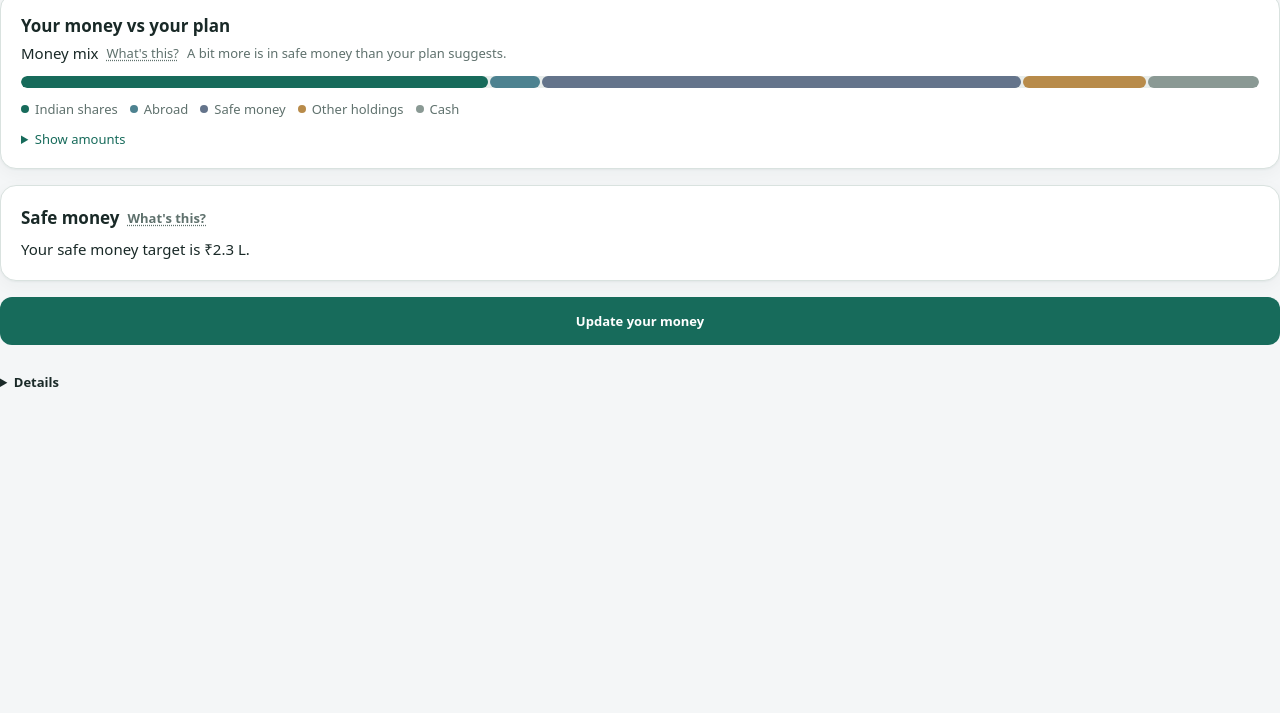
Plan page › shows the money mix first and keeps supporting detail closed
Expected: the heading "Your money vs your plan" is shown, [21,14,230,37]
Expected: the text "A bit more is in safe money than your plan suggests." is shown, [187,44,506,62]
Click the heading "Show amounts": (80, 139) [35,130,126,148]
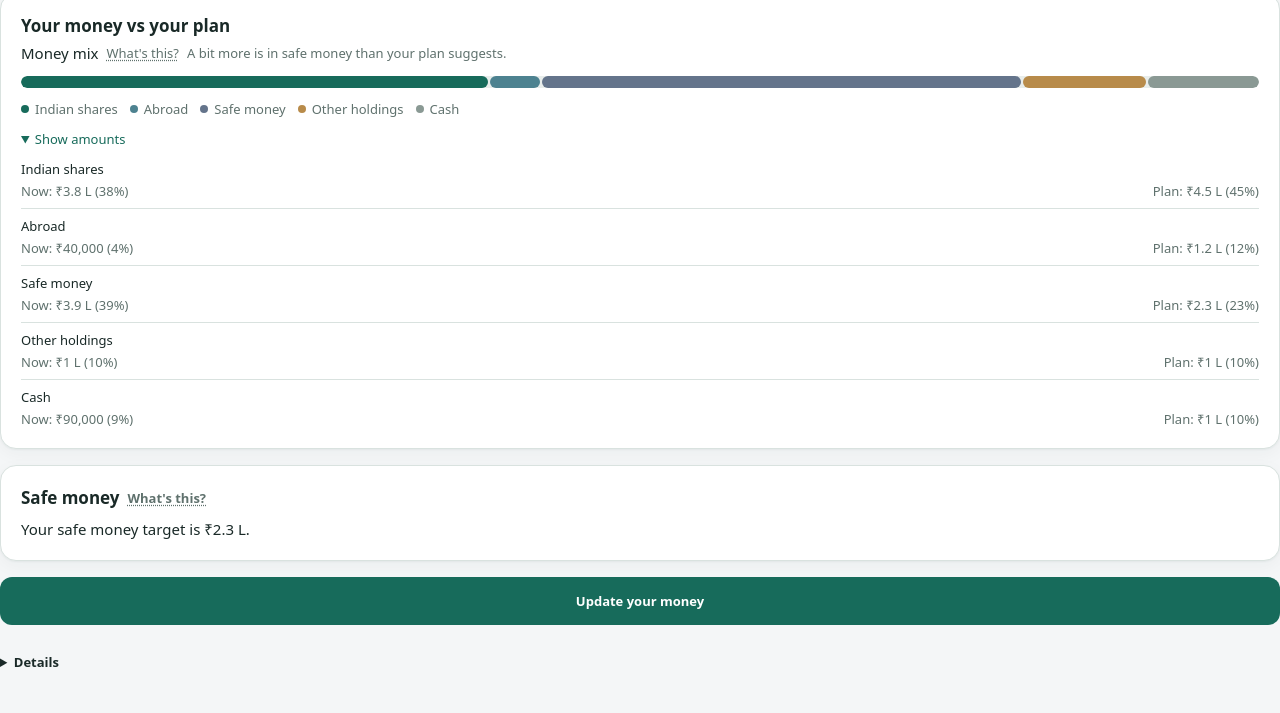
Result: the text "Now: ₹3.8 L (38%)" is shown at [21,182,128,200]
Result: the text "Plan: ₹4.5 L (45%)" is shown at [1153,182,1259,200]
Click the heading "Details": (36, 662) [14,653,59,671]
(page scrolled)
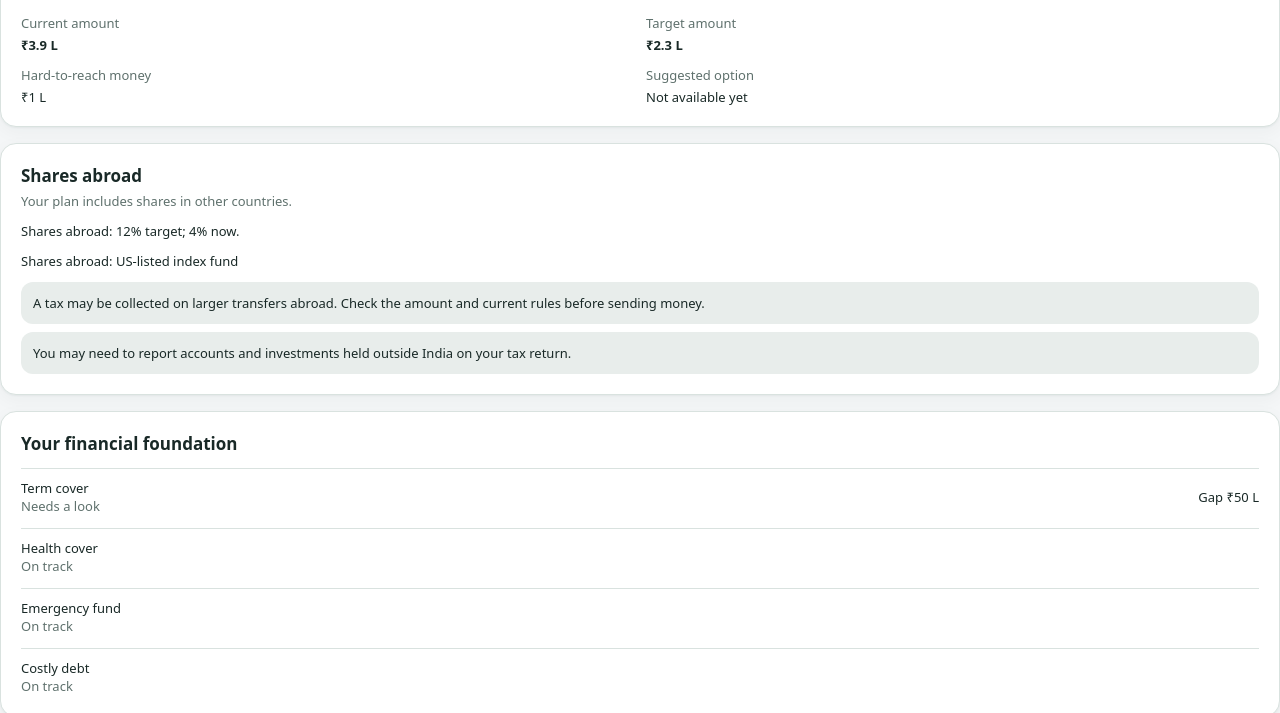
Result: the text "Shares abroad: US-listed index fund" is shown at [21,252,238,270]
Result: the list item "tax may be collected on larger transfers abroad" is shown at [33,294,705,312]
Result: the list item "report accounts and investments held outside India" is shown at [33,344,571,362]
